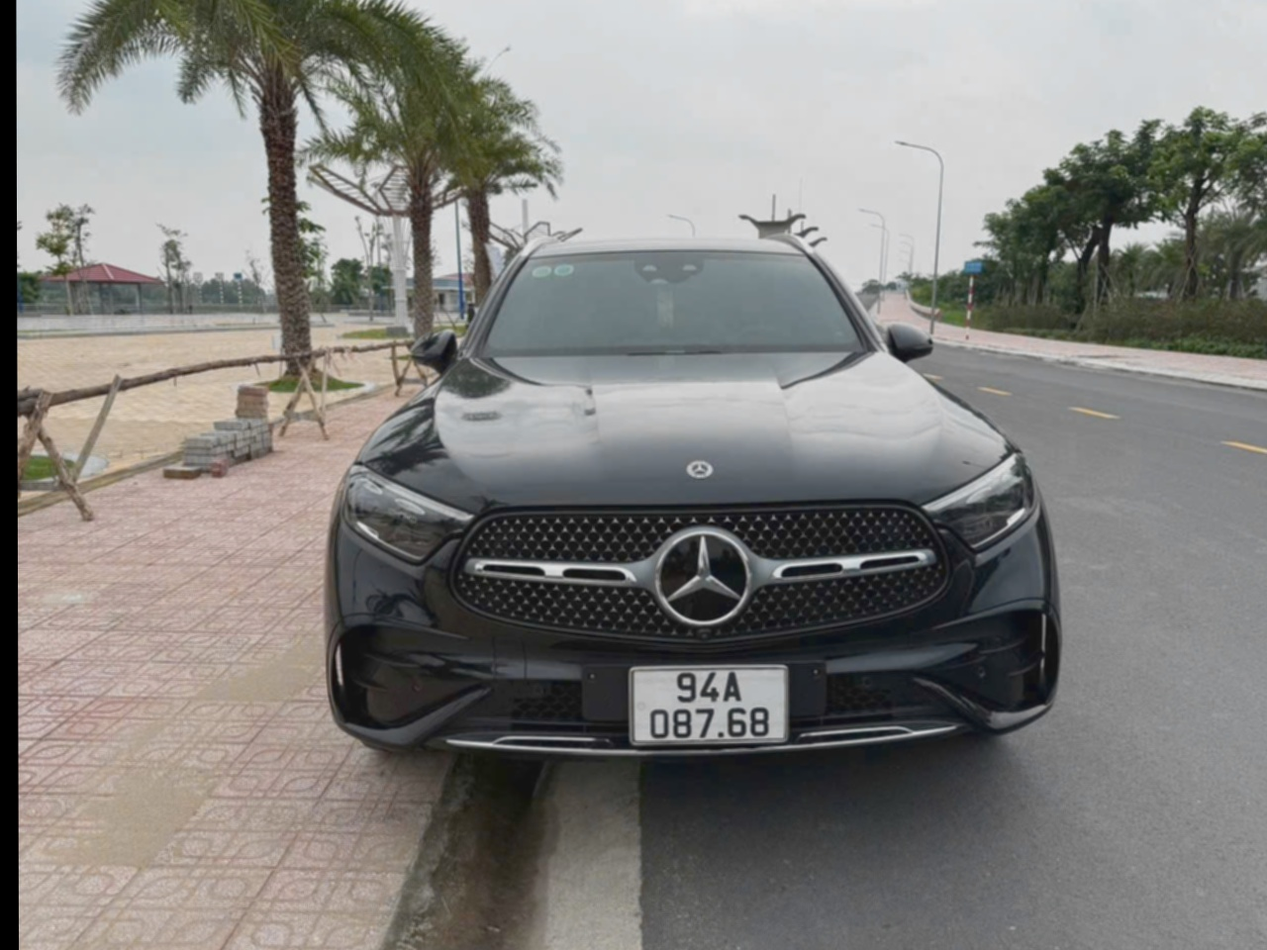Bien-so: (592, 656, 752, 751)
